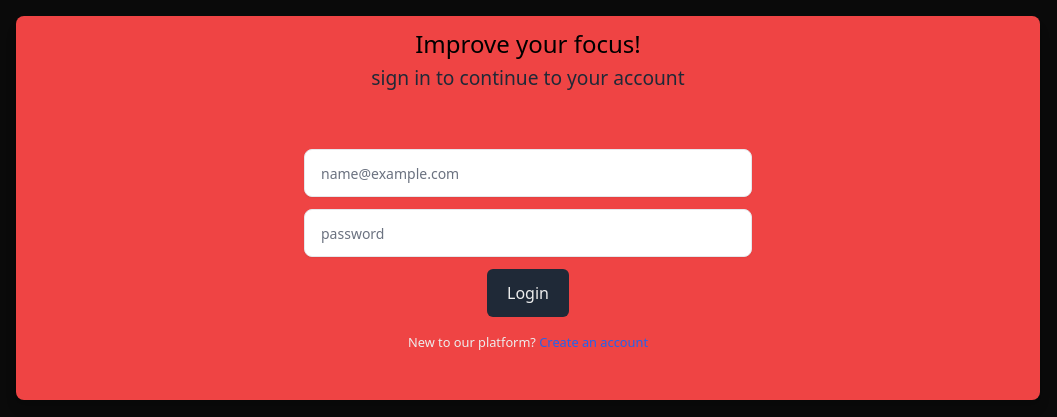
Test: Navigation › should navigate to the sign-up page
The image size is (1057, 417).
Click the link to "/sign-up" at (594, 342), box x1=539 y1=333 x2=648 y2=351
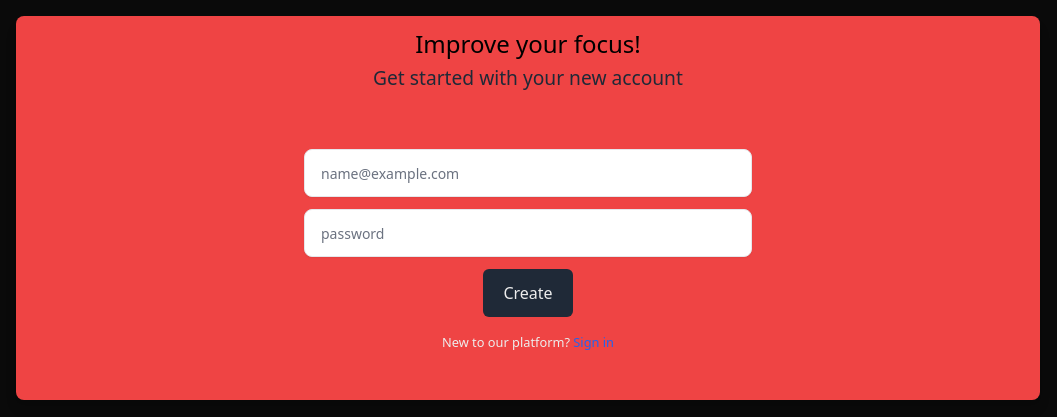
Now the text "Get started with your new account" is shown, box x1=373 y1=64 x2=683 y2=91
